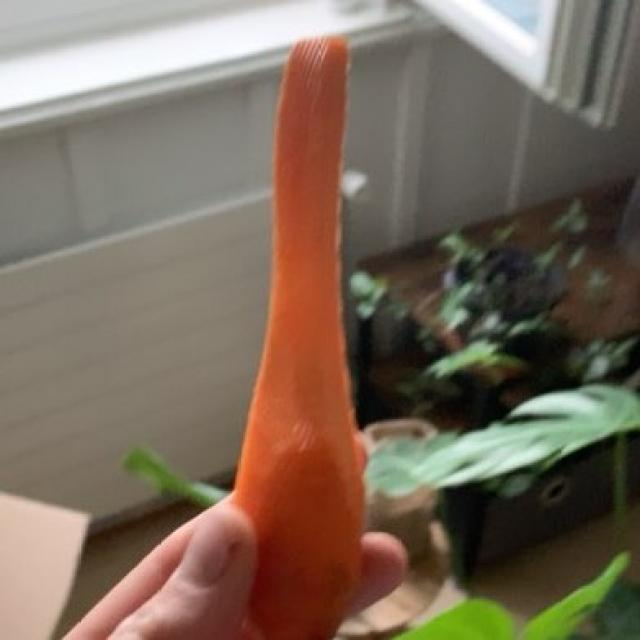carrot: (236, 37, 362, 534)
